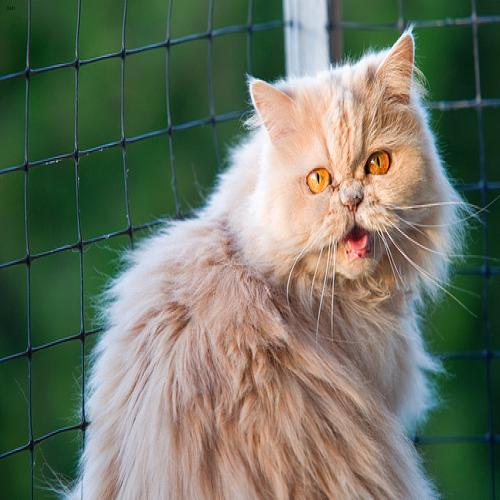persian: (234, 24, 459, 312)
